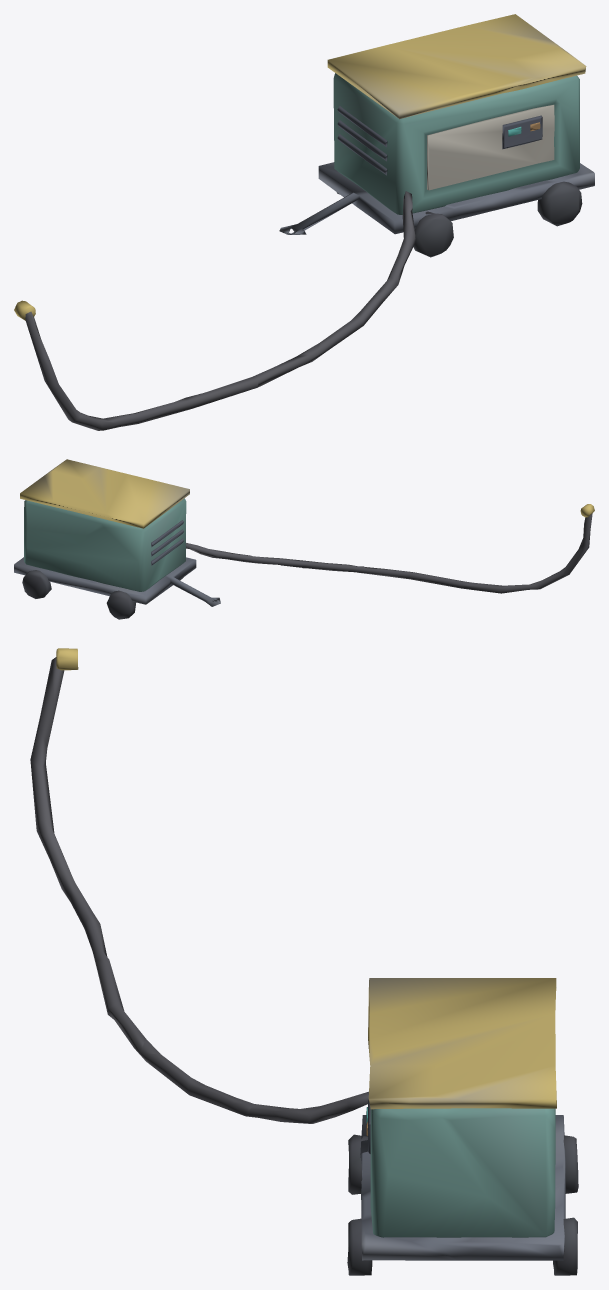
Rendered from bay_power.glb.
3 views of the same model, one above another, from view 1: azimuth 30°, elevation 25°; view 2: azimuth 150°, elevation 25°; view 3: azimuth 270°, elevation 25° (orthographic). The views are drawn at different scales.
Parts seen in each view (by area): view 1: power; view 2: power; view 3: power.
Part boxes in pixels (<box>): power: <box>14,14,594,430</box>; power: <box>14,459,594,619</box>; power: <box>30,648,578,1275</box>.
Size of the model in its own units: 4.09 by 0.903 by 2.13.
